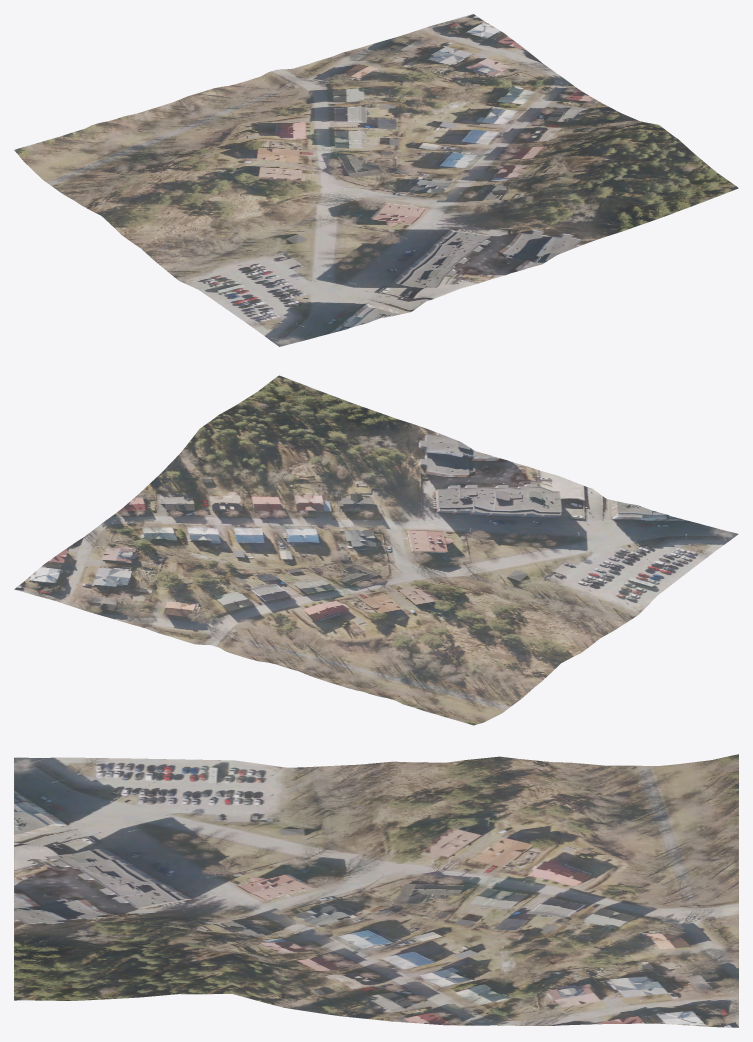
The model's file is CM_Terrain_24488206_6822251.fbx.
3 views of the same model, one above another, from view 1: azimuth 30°, elevation 25°; view 2: azimuth 150°, elevation 25°; view 3: azimuth 270°, elevation 25° (orthographic). The views are drawn at different scales.
Parts seen in each view (by area): view 1: CM_Terrain_24488206_6822251_LOD0; view 2: CM_Terrain_24488206_6822251_LOD0; view 3: CM_Terrain_24488206_6822251_LOD0.
Part boxes in pixels (<box>): CM_Terrain_24488206_6822251_LOD0: <box>14,14,738,346</box>; CM_Terrain_24488206_6822251_LOD0: <box>14,375,738,725</box>; CM_Terrain_24488206_6822251_LOD0: <box>14,754,738,1027</box>.
Size of what is drawn, in the model's own units: 205 by 25.02 by 205.
